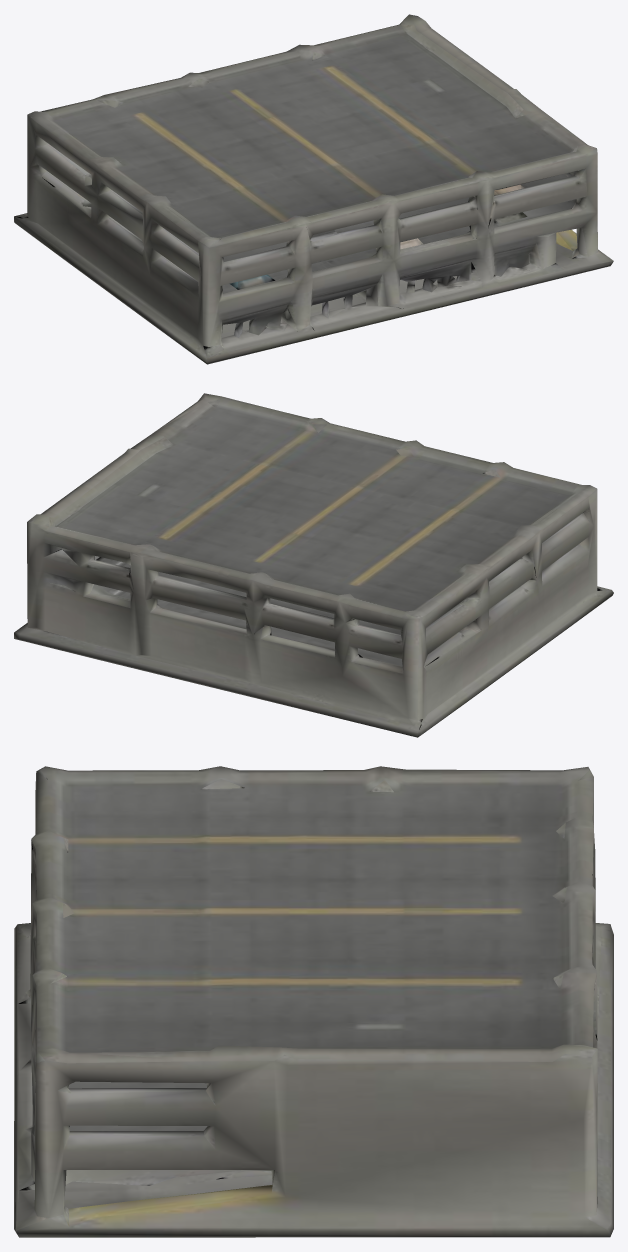
Rendered from gen_low2_garage_retail.glb.
3 renders of one model, top to bottom at view 1: azimuth 30°, elevation 25°; view 2: azimuth 150°, elevation 25°; view 3: azimuth 270°, elevation 25°, orthographic. The views are drawn at different scales.
Parts seen in each view (by area): view 1: gen_low2_garage_retail; view 2: gen_low2_garage_retail; view 3: gen_low2_garage_retail.
Boxes of the visible parts, left/top/right/bottom form: gen_low2_garage_retail: left=14, top=14, right=613, bottom=364; gen_low2_garage_retail: left=14, top=393, right=613, bottom=737; gen_low2_garage_retail: left=14, top=766, right=613, bottom=1237.
Size of the model in its own units: 40 by 11 by 33.15.
Materials: 1 (1 with a texture image).
